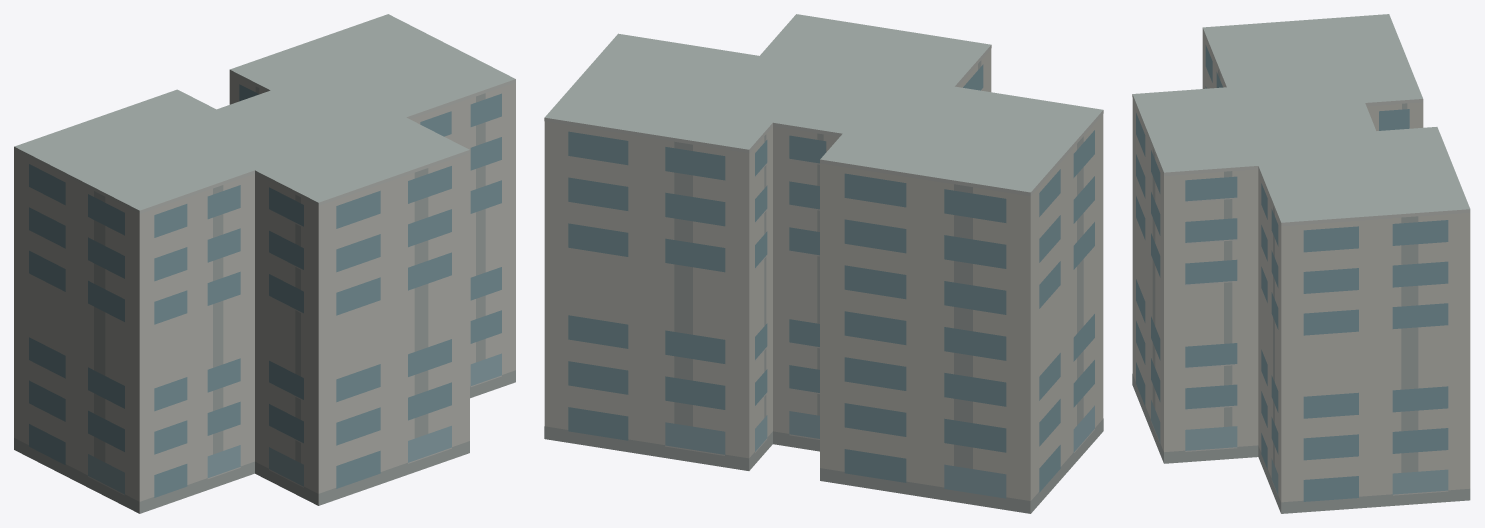
The model's file is residential-d4c08881-090f-4e13-ab14-4a55491cc699.glb.
The picture shows the model from 3 angles, left to right: view 1: azimuth 30°, elevation 25°; view 2: azimuth 150°, elevation 25°; view 3: azimuth 270°, elevation 25°; orthographic projection. The views are drawn at different scales.
Parts seen in each view (by area): view 1: residential-d4c08881-090f-4e13-ab14-4a55491cc699.tmp; view 2: residential-d4c08881-090f-4e13-ab14-4a55491cc699.tmp; view 3: residential-d4c08881-090f-4e13-ab14-4a55491cc699.tmp.
Boxes of the visible parts, <box> form: residential-d4c08881-090f-4e13-ab14-4a55491cc699.tmp: <box>14,14,515,513</box>; residential-d4c08881-090f-4e13-ab14-4a55491cc699.tmp: <box>544,14,1103,513</box>; residential-d4c08881-090f-4e13-ab14-4a55491cc699.tmp: <box>1132,14,1470,513</box>.
Size of the model in its own units: 32.3 by 21 by 22.1.
